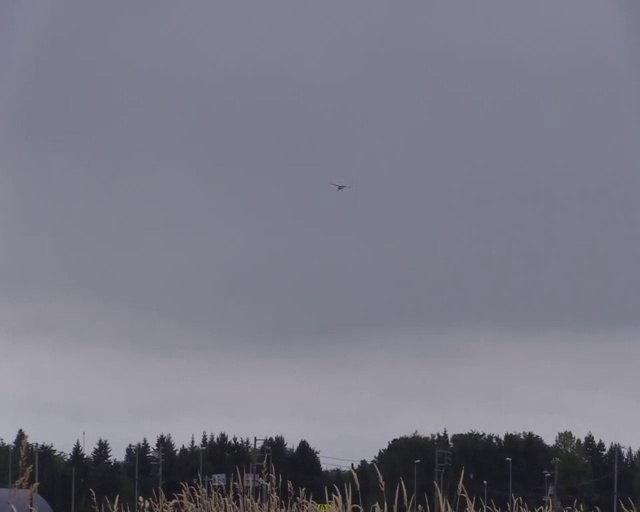AIRPLANE: (331, 183, 351, 191)
